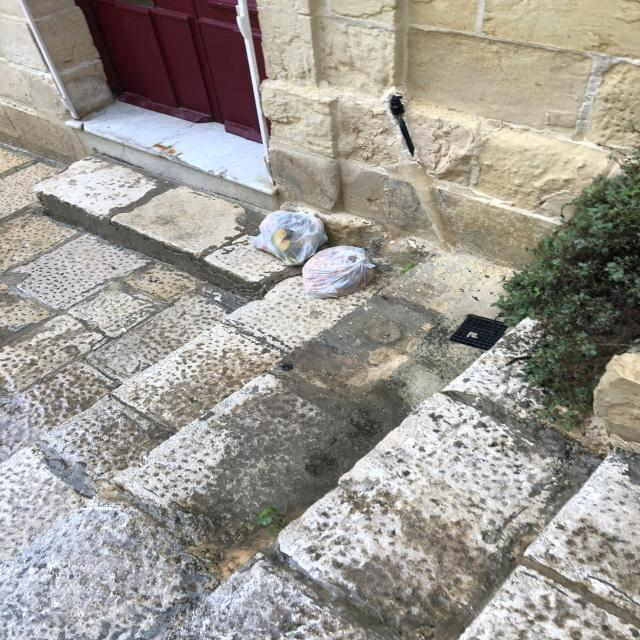Organic Waste -White Bag-: (250, 208, 328, 268), (302, 248, 385, 302)
